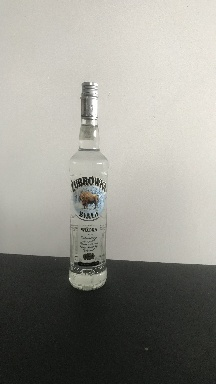butelka: (67, 77, 109, 293)
